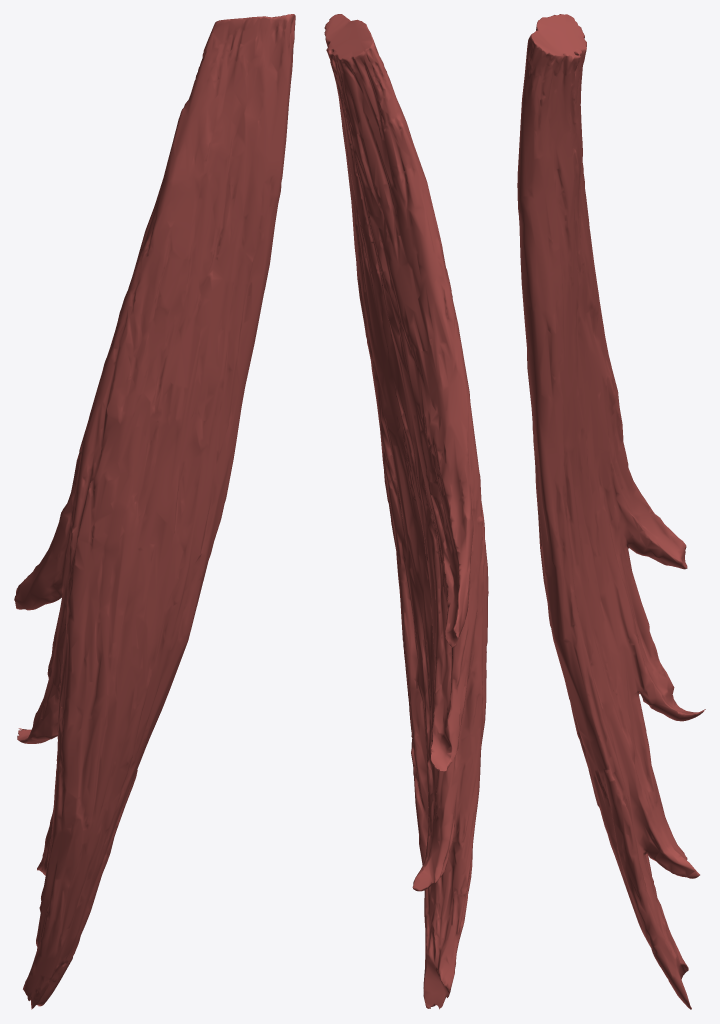
The model's file is FMA46309.glb.
The picture shows the model from 3 angles, left to right: view 1: azimuth 30°, elevation 25°; view 2: azimuth 150°, elevation 25°; view 3: azimuth 270°, elevation 25°; orthographic projection. The views are drawn at different scales.
Visible parts, largest first — view 1: FMA46309; view 2: FMA46309; view 3: FMA46309.
Boxes of the visible parts, x1,y1,x2,y2 form: FMA46309: [14, 14, 295, 1009]; FMA46309: [324, 14, 488, 1009]; FMA46309: [517, 14, 705, 1009].
Size of the model in its own units: 0.0236 by 0.1066 by 0.0171.
